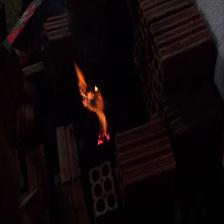fire: (74, 65, 110, 145)
